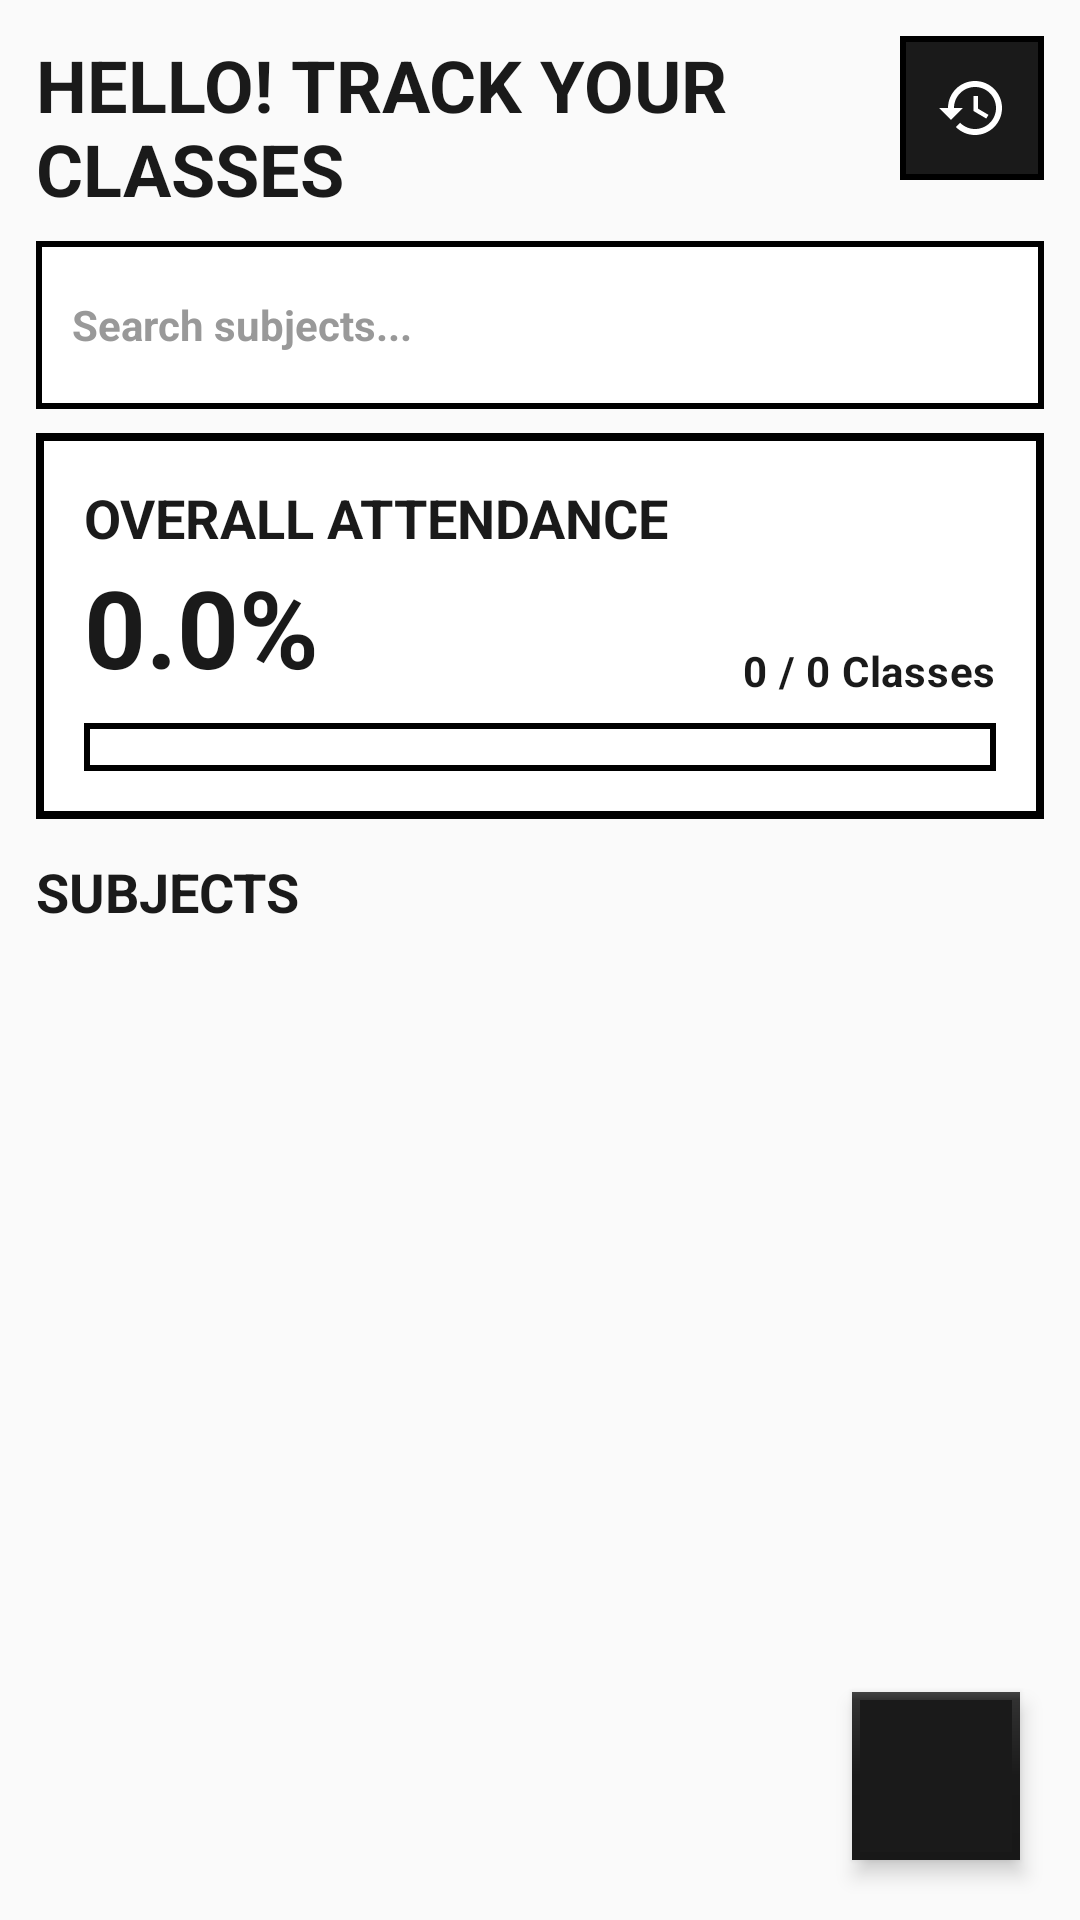

Named icons in this screenshot (1080px×1920px) and their bounding boxes, {"left": x1, "top": y1, "right": x2, "bottom": y2}:
History: {"left": 900, "top": 36, "right": 1044, "bottom": 180}
